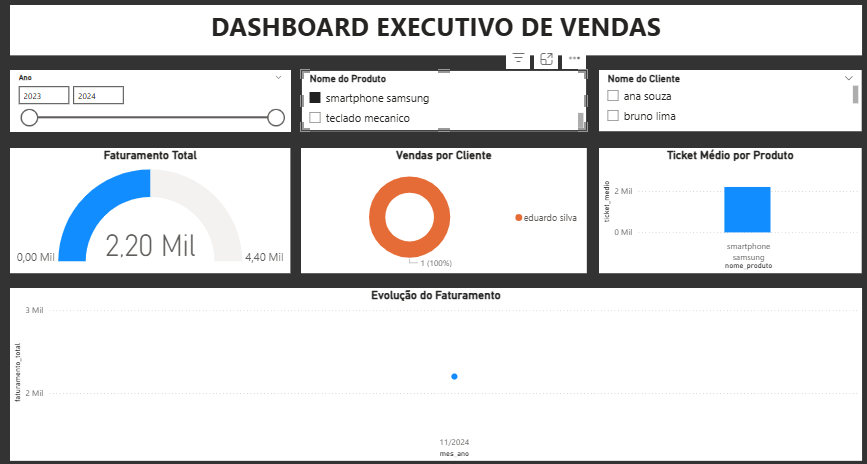

This screenshot's page, from the dashboard's own definition file:
{"tool":"powerbi","page":{"name":"Página 1","canvas":[1280,720],"ordinal":0},"visuals":[{"type":"lineChart","title":"Evolução do Faturamento","fields":{"Y":["dim_cliente.faturamento_total"],"Category":["dim_tempo.mes_ano"]},"box":[14,442,1252,254],"z":0},{"type":"gauge","title":"Faturamento Total","fields":{"Y":["dim_cliente.faturamento_total"]},"box":[14,236,412,184],"z":1000},{"type":"donutChart","title":"Vendas por Cliente","fields":{"Y":["dim_cliente.quantidade_total"],"Category":["dim_cliente.nome_cliente"]},"box":[442,236,420,184],"z":2000},{"type":"lineClusteredColumnComboChart","title":"Ticket Médio por Produto","fields":{"Y":["dim_cliente.ticket_medio"],"Category":["dim_produto.nome_produto"]},"box":[880,236,386,184],"z":3000},{"type":"textbox","box":[14,26,1252,74],"z":4000},{"type":"slicer","fields":{"Values":["dim_tempo.ano"]},"box":[14,122,412,90],"z":5000},{"type":"slicer","fields":{"Values":["dim_produto.nome_produto"]},"box":[442,122,420,90],"z":6000},{"type":"slicer","fields":{"Values":["dim_cliente.nome_cliente"]},"box":[880,122,386,90],"z":7000}]}

Visuals, with their boxes in screenshot pixels (x1, y1, x2, y2):
"Evolução do Faturamento" lineChart: detection(5, 285, 862, 459)
"Faturamento Total" gauge: detection(5, 144, 287, 270)
"Vendas por Cliente" donutChart: detection(298, 144, 586, 270)
"Ticket Médio por Produto" lineClusteredColumnComboChart: detection(598, 144, 862, 270)
textbox: detection(5, 0, 862, 50)
slicer - dim_tempo.ano: detection(5, 65, 287, 127)
slicer - dim_produto.nome_produto: detection(298, 65, 586, 127)
slicer - dim_cliente.nome_cliente: detection(598, 65, 862, 127)
